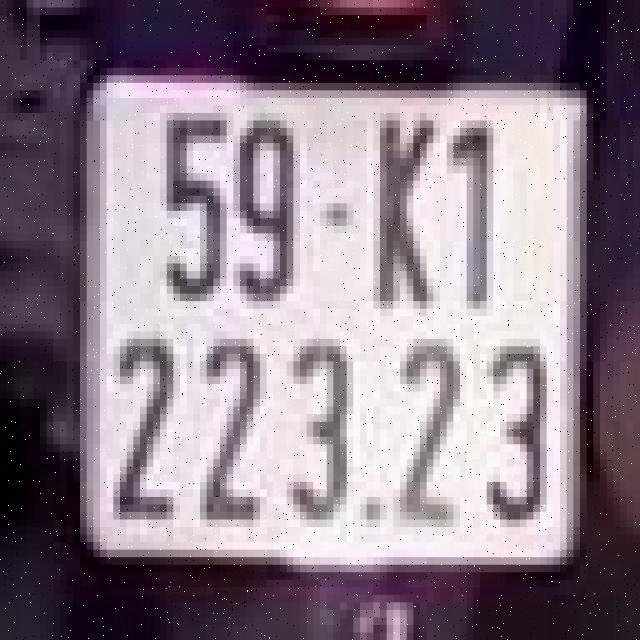1: (447, 98, 513, 324)
2: (177, 316, 263, 542), (110, 312, 190, 538), (397, 327, 450, 531)
3: (480, 331, 553, 535), (290, 328, 357, 524)
5: (154, 94, 234, 313)
9: (226, 101, 306, 312)
K: (360, 90, 447, 316)
